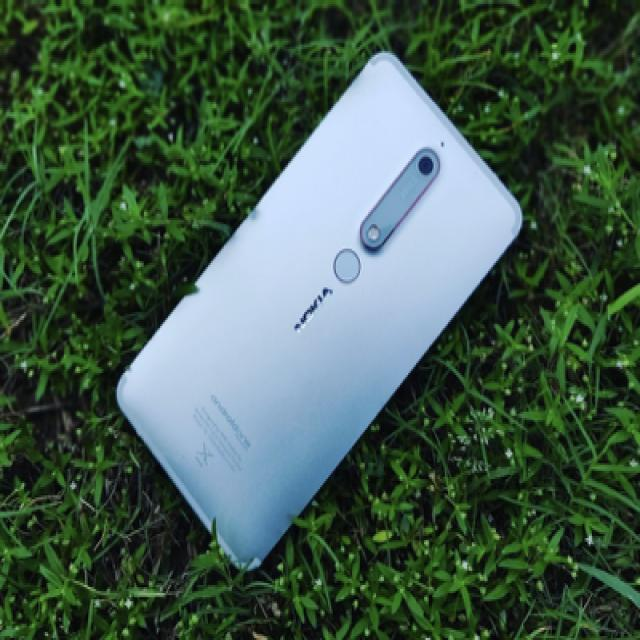cellphone: (114, 49, 523, 571)
